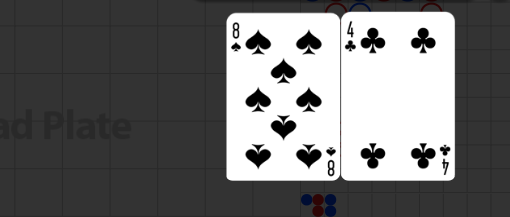4C: (344, 19, 359, 54)
8S: (230, 21, 243, 55)
